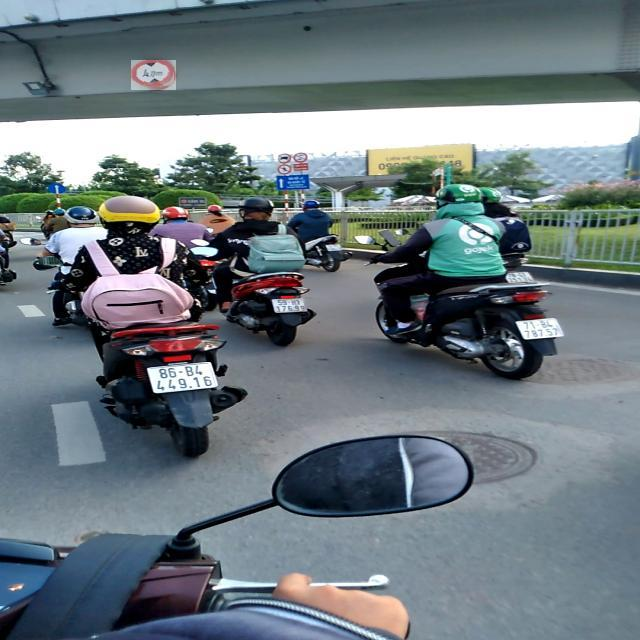P-117: (131, 60, 176, 90)
